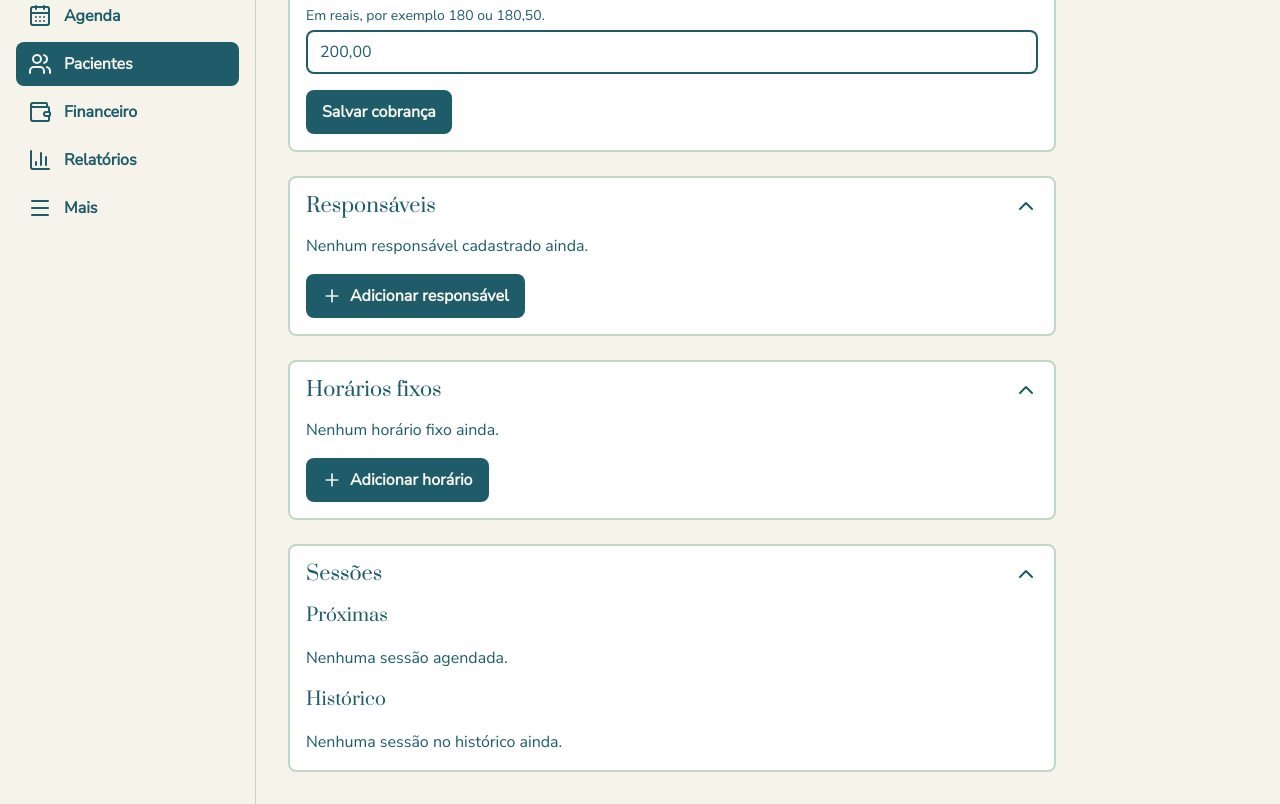
Test: SecaoHorarios › adicionar › adiciona "Terça, 14:00, 50 min": a seção Sessões mostra as próximas 4 terças
(page scrolled)
Click the button "Adicionar horário" at (397, 480), box [306,458,488,502]
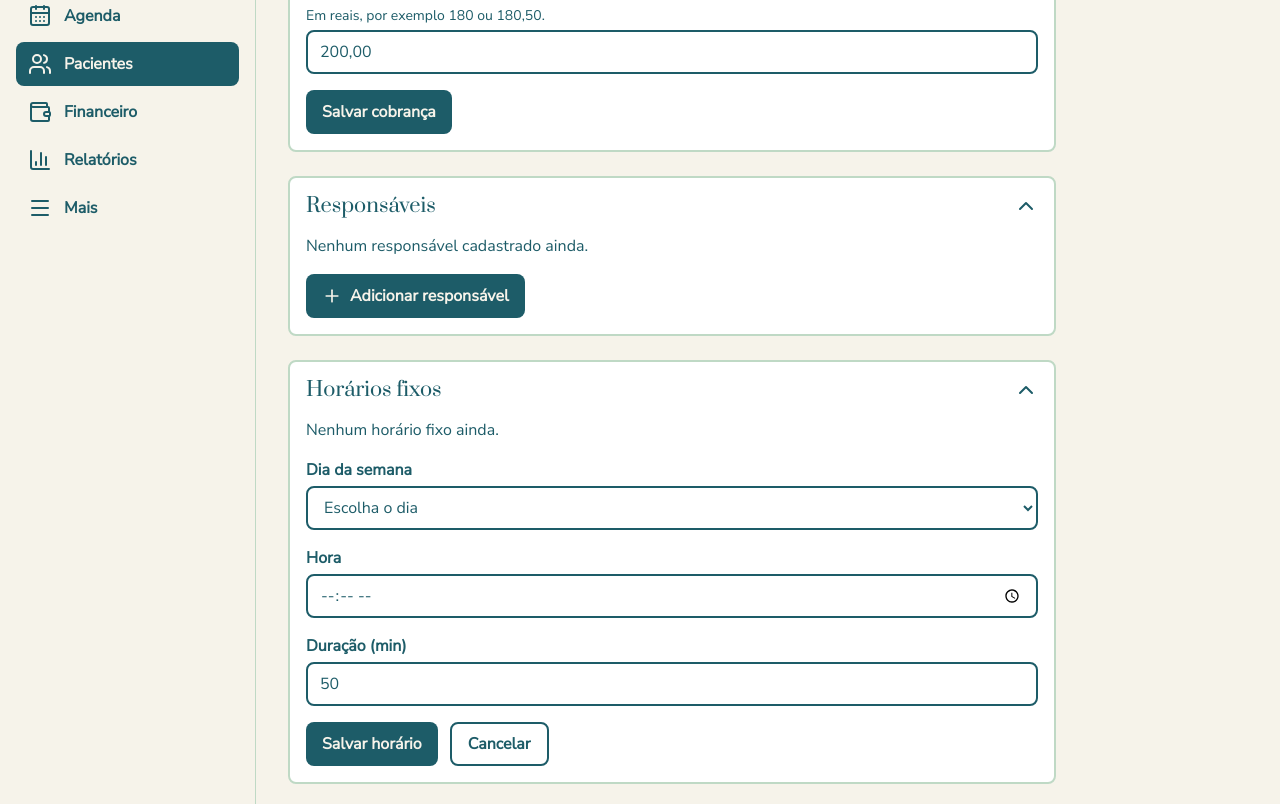
expect the number field labelled "Duração (min)" holds "50": met, box [306,662,1038,706]
Select "Terça" in the dropdown labelled "Dia da semana" at (672, 508), box [306,486,1038,530]
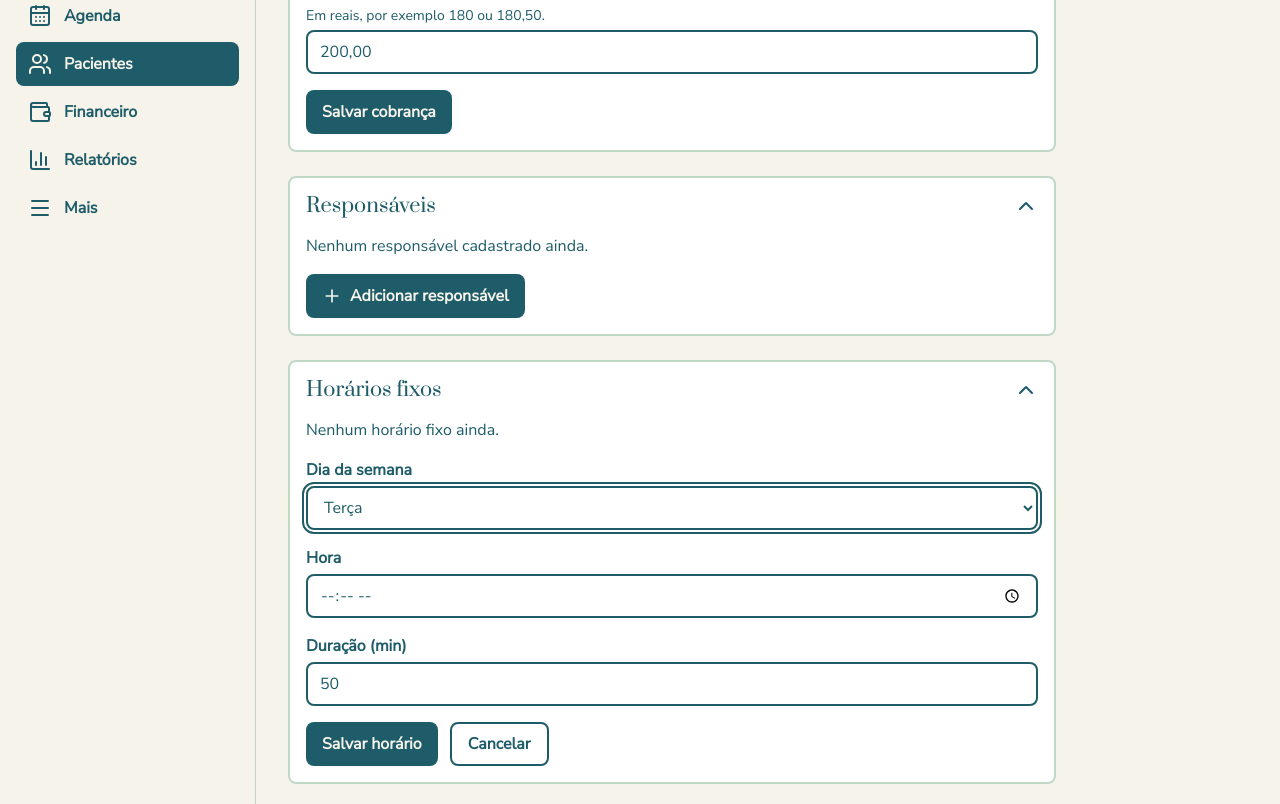
Type "14:00" into the time field labelled "Hora" at (672, 596), box [306,574,1038,618]
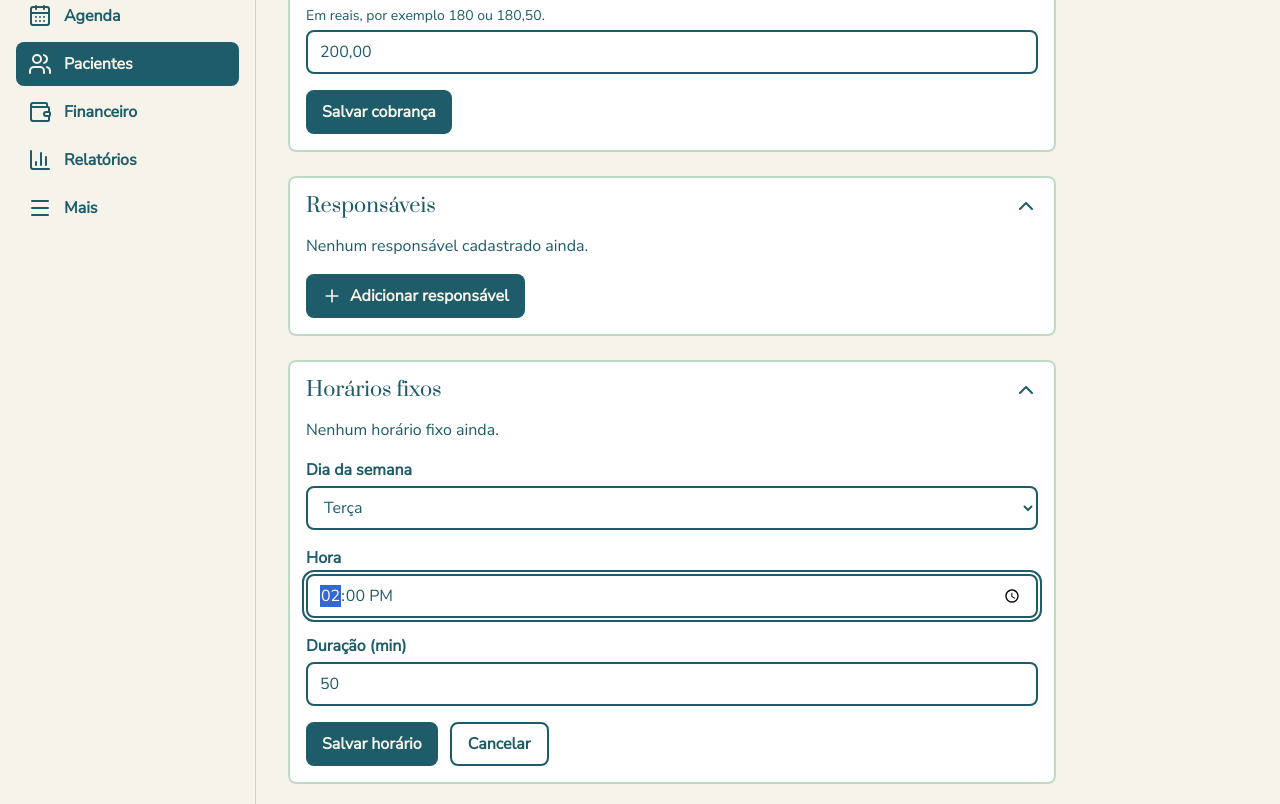
Click the button "Salvar horário" at (372, 744), box [306,722,438,766]
(page scrolled)
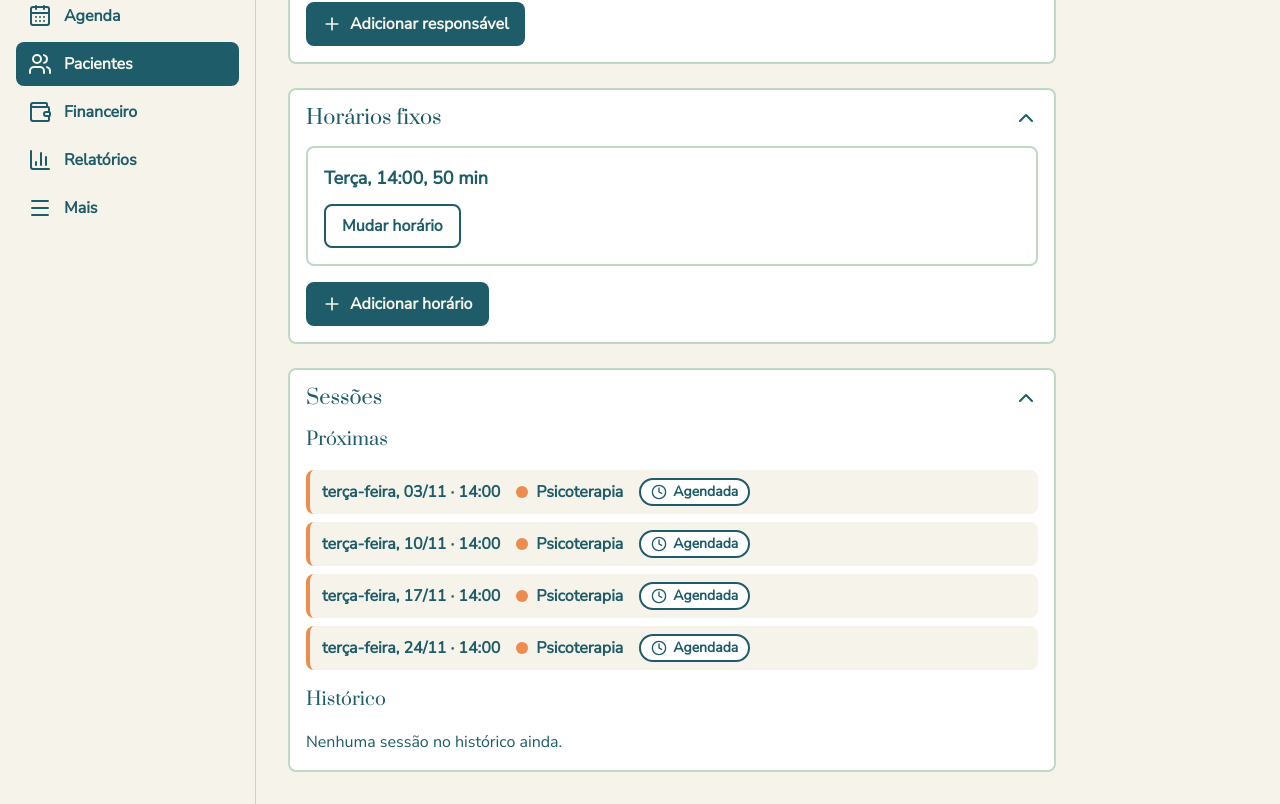
expect the text "Terça, 14:00, 50 min" is shown: met, box [324,164,488,192]
expect the label labelled "Hora" is gone: met
expect the list item "terça-feira, 03/11 · 14:00 Psicoterapia Agendada" is shown: met, box [306,470,1038,514]
